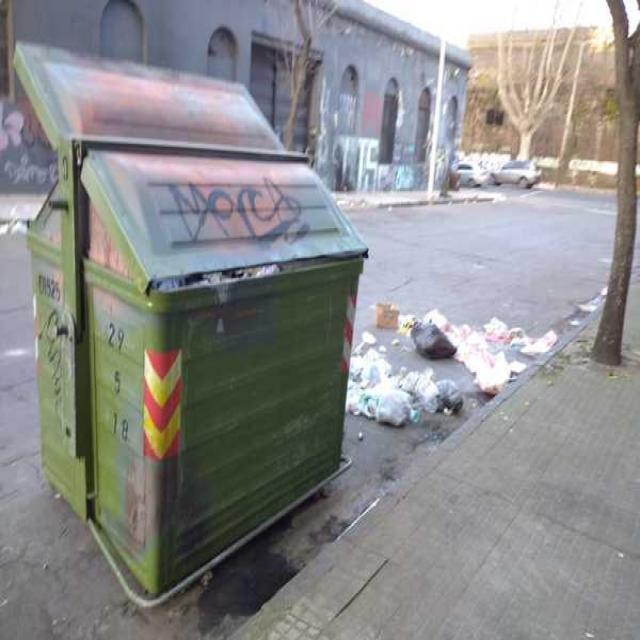garbage: (339, 286, 562, 452), (137, 255, 286, 298)
